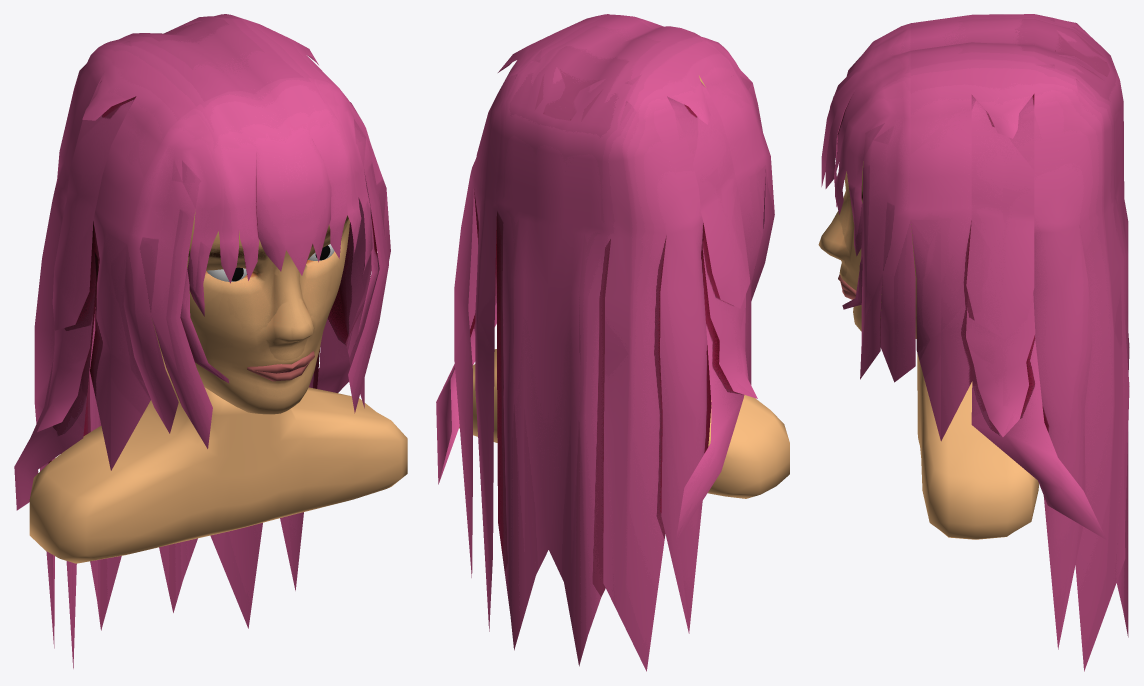
Rendered from BonnyPinkHair.glb.
3 views of the same model, side by side, from view 1: azimuth 30°, elevation 25°; view 2: azimuth 150°, elevation 25°; view 3: azimuth 270°, elevation 25° (orthographic). The views are drawn at different scales.
Parts seen in each view (by area): view 1: HairPink, Body, Head, Mouth; view 2: HairPink, Body; view 3: HairPink, Body, Head.
Part boxes in pixels (box(x1,y1,x2,y2)): HairPink: box(14, 14, 390, 668); Body: box(29, 362, 407, 563); Head: box(152, 212, 349, 414); Mouth: box(247, 351, 314, 381); HairPink: box(436, 14, 774, 671); Body: box(459, 349, 789, 498); HairPink: box(821, 14, 1129, 671); Body: box(917, 353, 1038, 539); Head: box(818, 161, 916, 338).
Size of the model in its own units: 5.96 by 10.52 by 4.96.
Materials: 8 (4 with a texture image).
